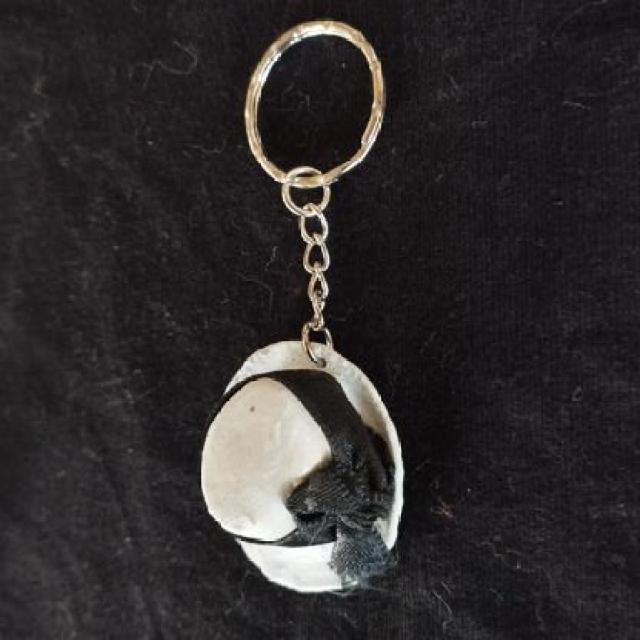Llavero: (199, 337, 406, 595)
